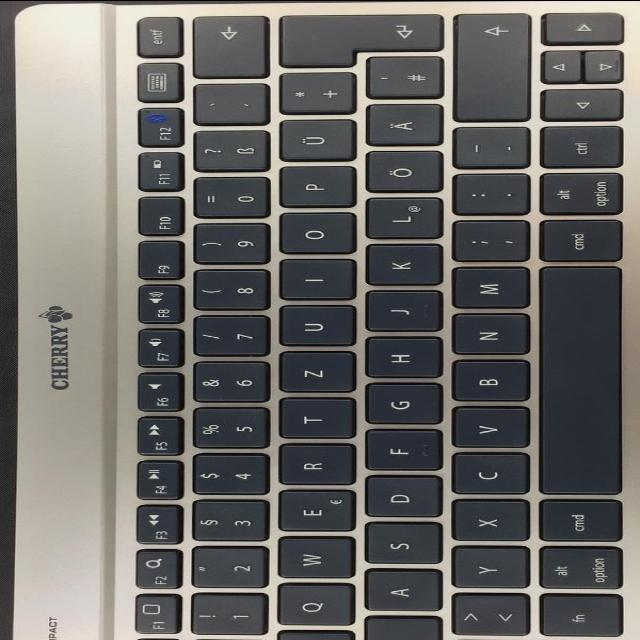0: (187, 177, 267, 220)
1: (186, 594, 265, 637)
2: (186, 546, 266, 590)
3: (187, 500, 266, 543)
4: (187, 454, 266, 496)
5: (187, 407, 266, 450)
6: (187, 362, 266, 404)
7: (187, 316, 267, 358)
8: (188, 270, 267, 312)
9: (188, 222, 267, 266)
a: (360, 570, 439, 613)
accent: (187, 84, 265, 127)
ae: (360, 104, 440, 147)
alt-left: (533, 547, 621, 591)
altgr-right: (533, 172, 621, 216)
b: (446, 360, 526, 404)
c: (445, 453, 526, 496)
caret: (183, 622, 263, 640)
comma: (446, 221, 526, 265)
d: (360, 476, 440, 518)
del: (186, 15, 266, 79)
e: (272, 491, 352, 533)
enter: (270, 14, 442, 68)
f: (360, 430, 439, 472)
g: (360, 383, 439, 426)
h: (360, 338, 439, 380)
hash: (361, 57, 440, 100)
i: (273, 260, 351, 302)
j: (360, 292, 439, 333)
k: (360, 245, 440, 287)
keyboard: (1, 0, 640, 640)
l: (361, 198, 440, 240)
less: (446, 594, 527, 638)
m: (445, 267, 526, 311)
minus: (447, 127, 526, 171)
n: (446, 313, 526, 357)
o: (273, 213, 352, 256)
oe: (361, 150, 440, 194)
p: (274, 167, 352, 209)
plus: (273, 72, 352, 116)
point: (447, 173, 526, 217)
q: (271, 584, 351, 628)
r: (274, 445, 352, 487)
s: (360, 523, 440, 566)
shift-left: (446, 620, 527, 640)
shift-lock: (359, 608, 439, 640)
shift-right: (448, 14, 528, 122)
space: (533, 267, 621, 495)
ss: (187, 130, 267, 174)
strg-left: (535, 620, 621, 640)
strg-right: (535, 126, 621, 170)
t: (272, 399, 351, 439)
tab: (271, 616, 351, 640)
u: (273, 306, 353, 348)
ue: (274, 119, 352, 163)
v: (446, 407, 526, 450)
w: (271, 538, 351, 581)
x: (446, 500, 526, 543)
y: (447, 547, 526, 591)
z: (273, 352, 352, 394)
